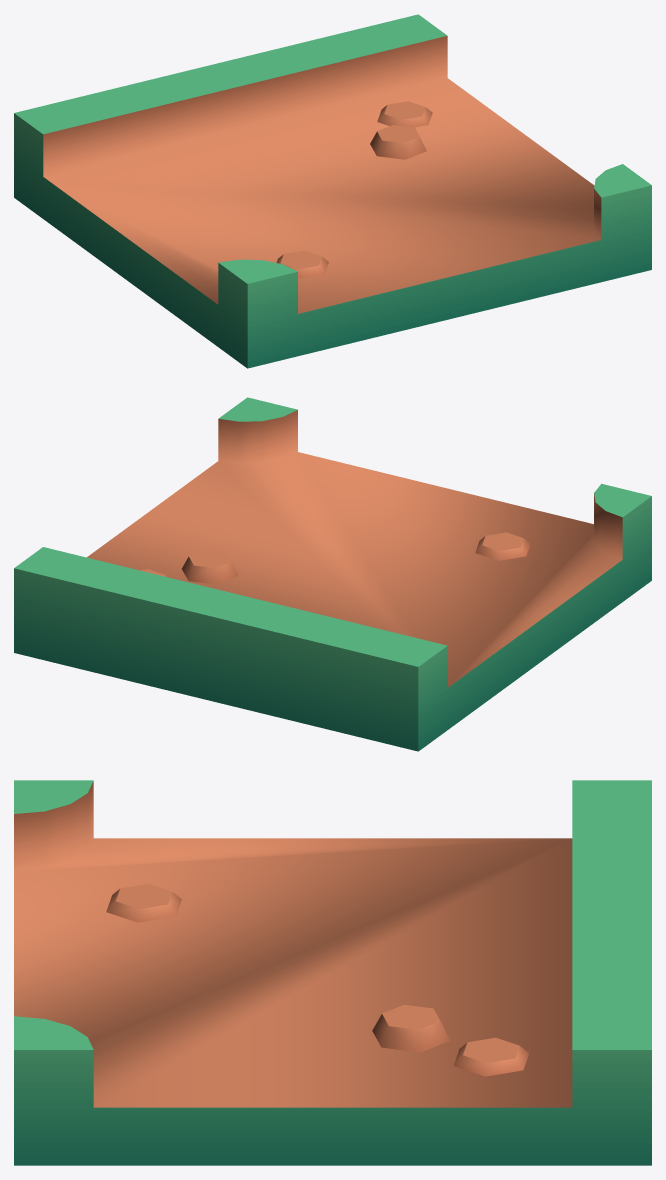
The model's file is tile-split.fbx.
3 views of the same model, one above another, from view 1: azimuth 30°, elevation 25°; view 2: azimuth 150°, elevation 25°; view 3: azimuth 270°, elevation 25° (orthographic). The views are drawn at different scales.
Visible parts, largest first — view 1: tile-split; view 2: tile-split; view 3: tile-split.
Boxes of the visible parts, box(x1,y1,x2,y2) form: tile-split: box(14, 14, 651, 368); tile-split: box(14, 397, 651, 751); tile-split: box(14, 780, 651, 1165).
Size of the model in its own units: 100 by 20 by 100.
